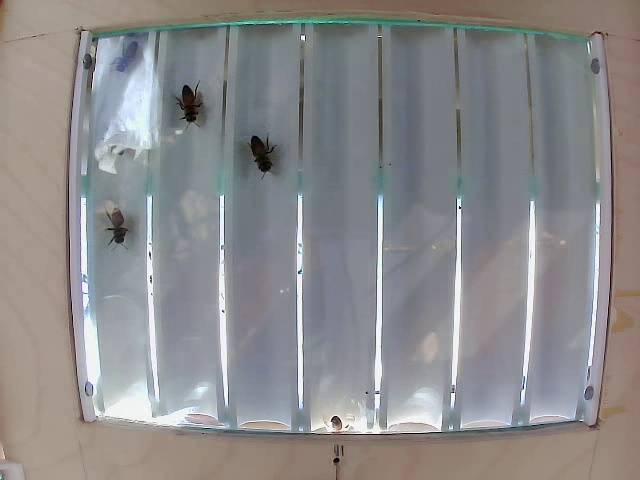bee: (235, 126, 278, 180), (169, 93, 209, 137), (95, 213, 136, 250)
